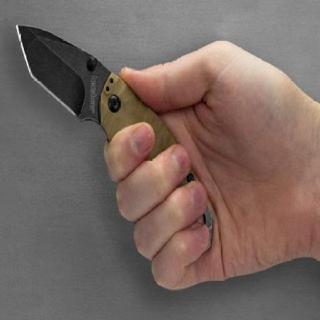knife: (10, 13, 207, 211)
